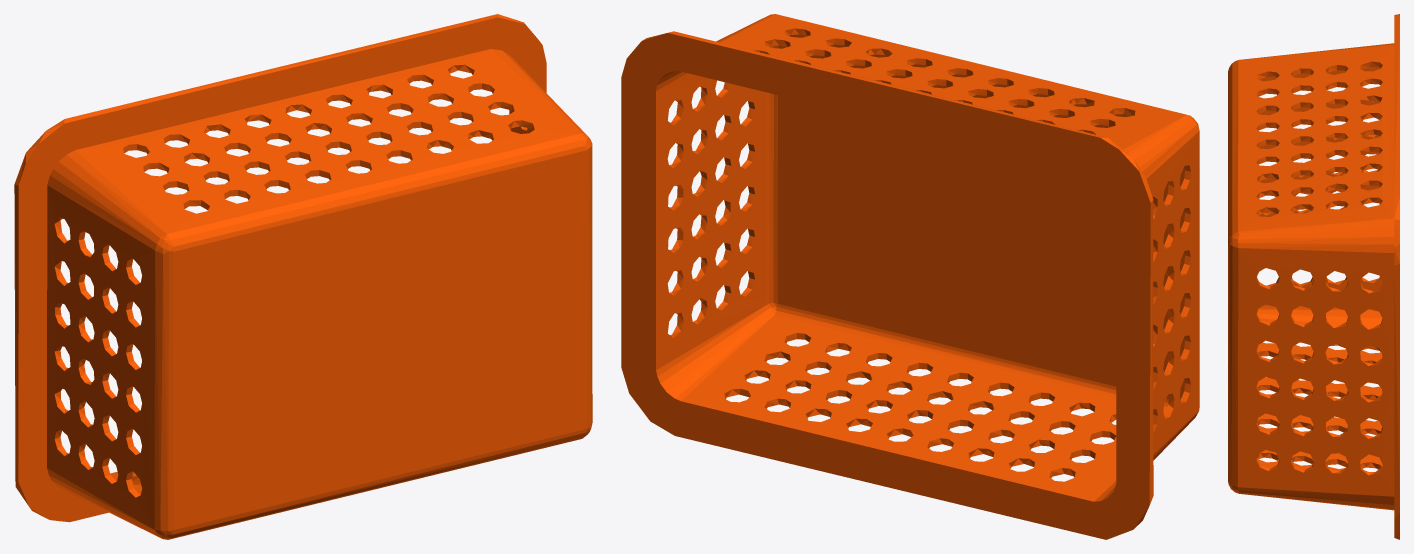
The model's file is basket.dae.
3 renders of one model, left to right at view 1: azimuth 30°, elevation 25°; view 2: azimuth 150°, elevation 25°; view 3: azimuth 270°, elevation 25°, orthographic. The views are drawn at different scales.
Visible parts, largest first — view 1: node0; view 2: node0; view 3: node0.
Part boxes in pixels (x1,y1,x2,y2): node0: (14, 14, 592, 539); node0: (621, 14, 1199, 539); node0: (1228, 14, 1399, 539).
Bounding box in the file's own units: 0.1823 × 0.06 × 0.1323.
